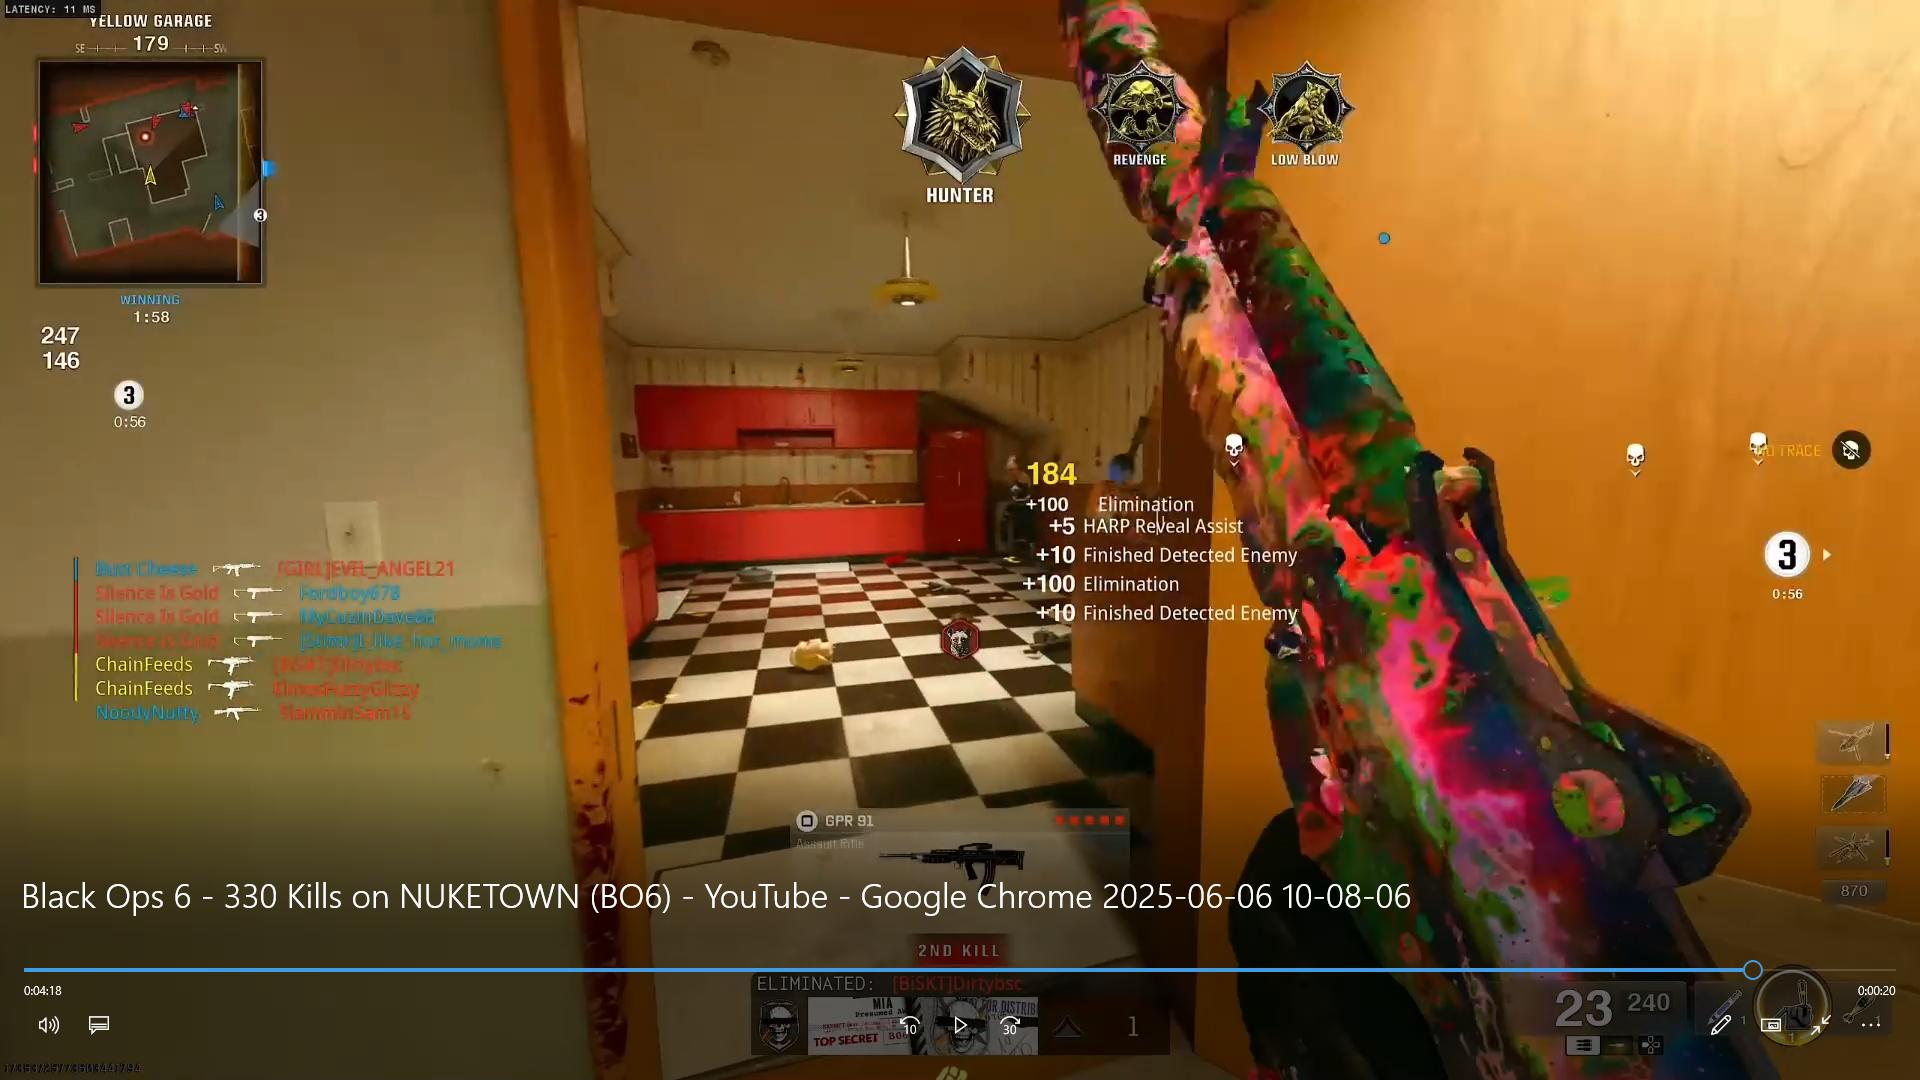Enemy: (994, 440, 1036, 527), (1100, 442, 1135, 488)
